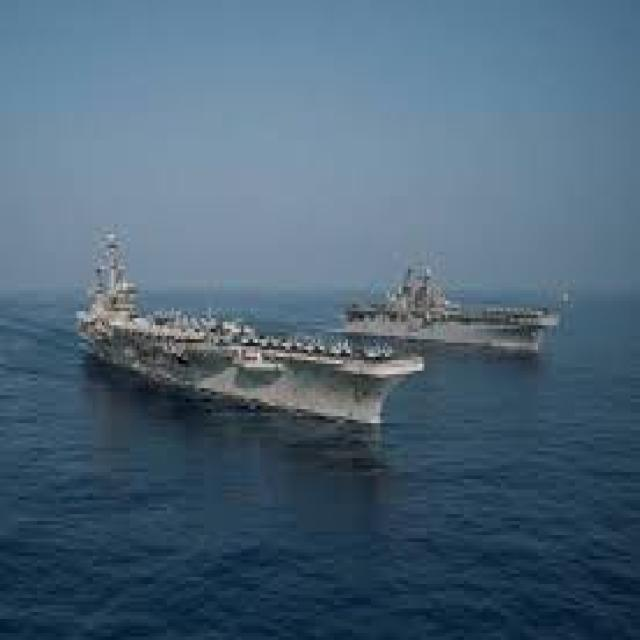navalvessels: (73, 226, 420, 434), (334, 252, 565, 356)
